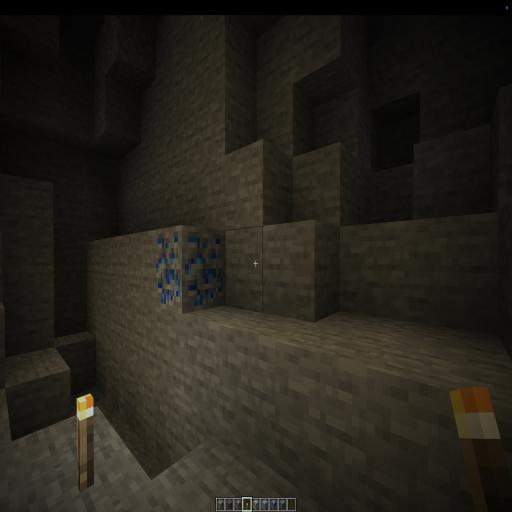lapis ore: (154, 228, 228, 312)
